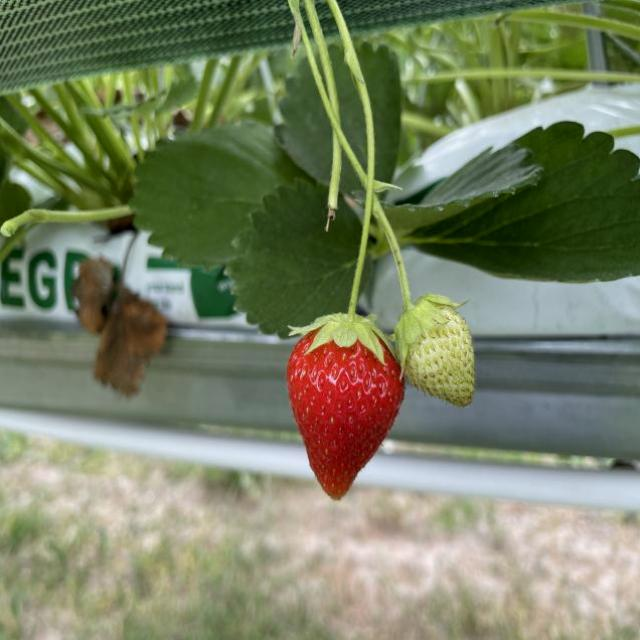stem: (373, 198, 466, 370), (292, 195, 385, 363)
strawberryNR: (405, 316, 474, 407)
strawberryR: (285, 336, 401, 496)
